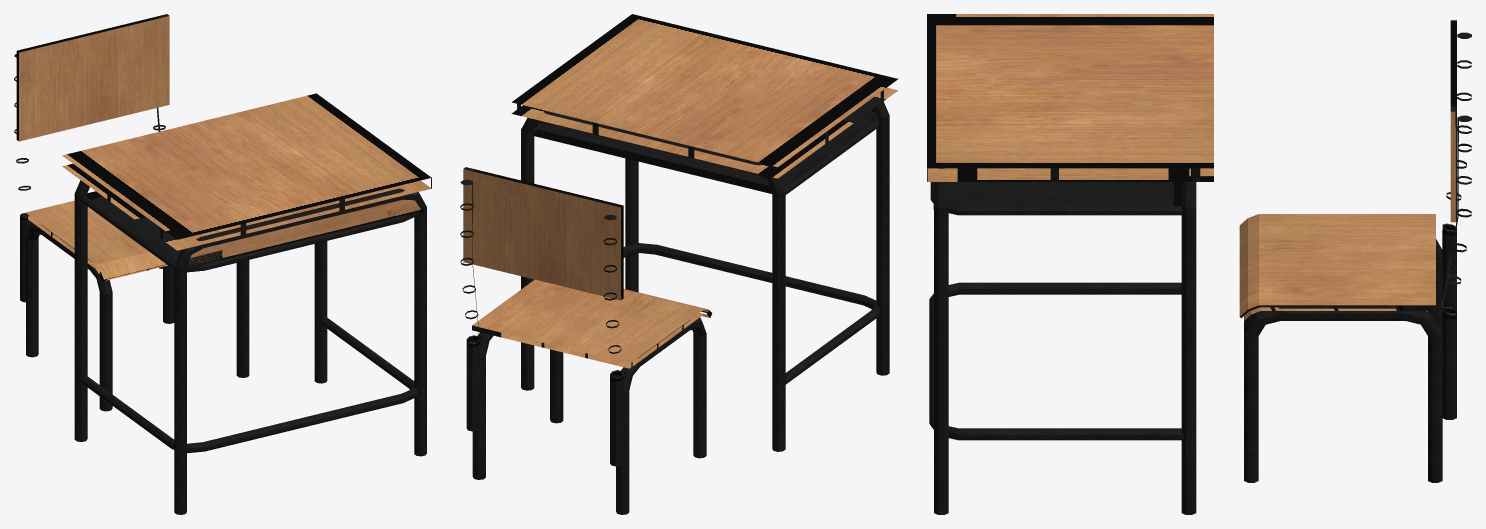
The model's file is school chair.obj.
The picture shows the model from 3 angles, left to right: view 1: azimuth 30°, elevation 25°; view 2: azimuth 150°, elevation 25°; view 3: azimuth 270°, elevation 25°; orthographic projection. The views are drawn at different scales.
Parts seen in each view (by area): view 1: Cube.001, Cube.002; view 2: Cube.001, Cube.002; view 3: Cube.001, Cube.002.
Part boxes in pixels (x1=…): Cube.001: x1=62, y1=93, x2=431, y2=514; Cube.002: x1=14, y1=14, x2=249, y2=411; Cube.001: x1=511, y1=14, x2=897, y2=451; Cube.002: x1=460, y1=167, x2=712, y2=514; Cube.001: x1=927, y1=14, x2=1213, y2=514; Cube.002: x1=1239, y1=20, x2=1471, y2=482.
Size of the model in its own units: 4.17 by 4.68 by 6.22.
Materials: 2 (2 with a texture image).
